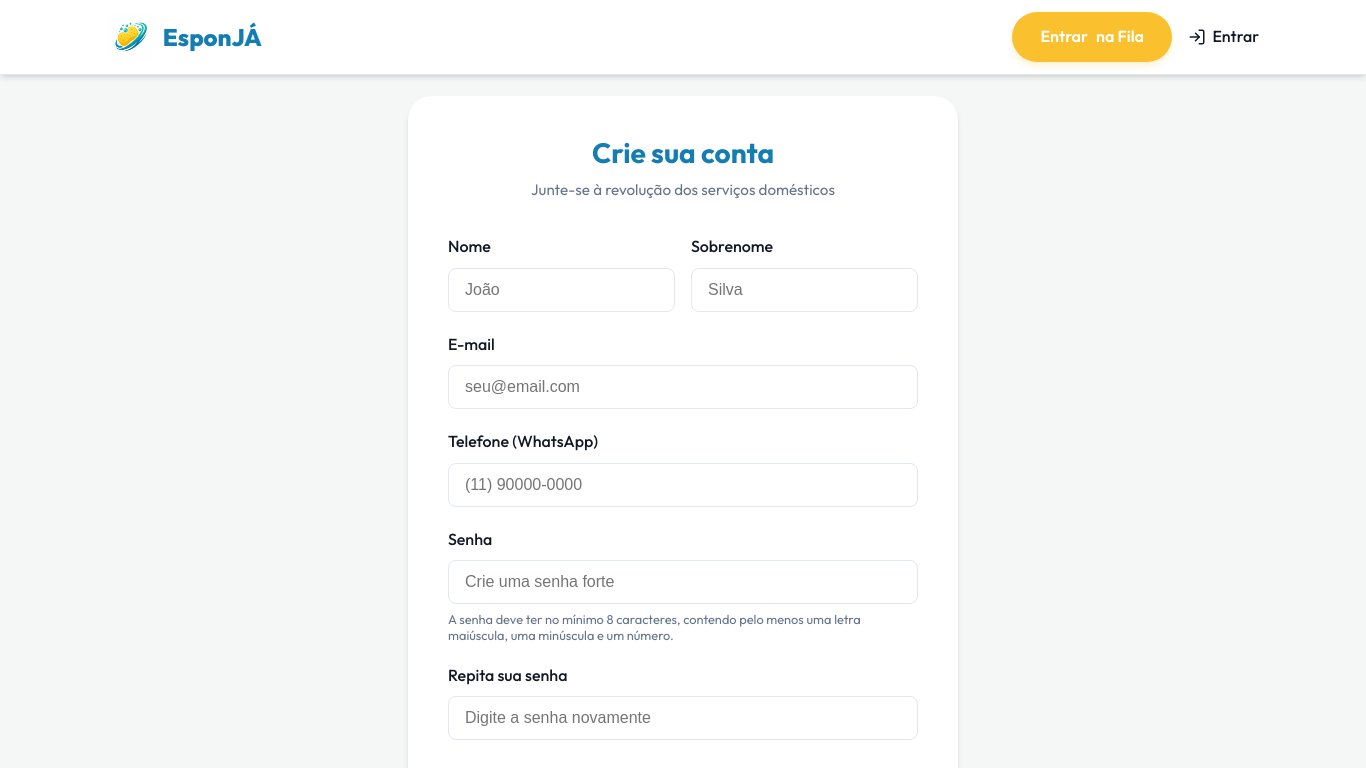
Test: Register Component › 5. deve exibir mensagem de erro se a API retornar falha (ex: email já cadastrado)
This screenshot has width=1366, height=768.
Type "Diana" into the field with placeholder "João" at (562, 290), box left=448, top=268, right=675, bottom=312
Type "Prince" into the field with placeholder "Silva" at (804, 290), box left=691, top=268, right=918, bottom=312
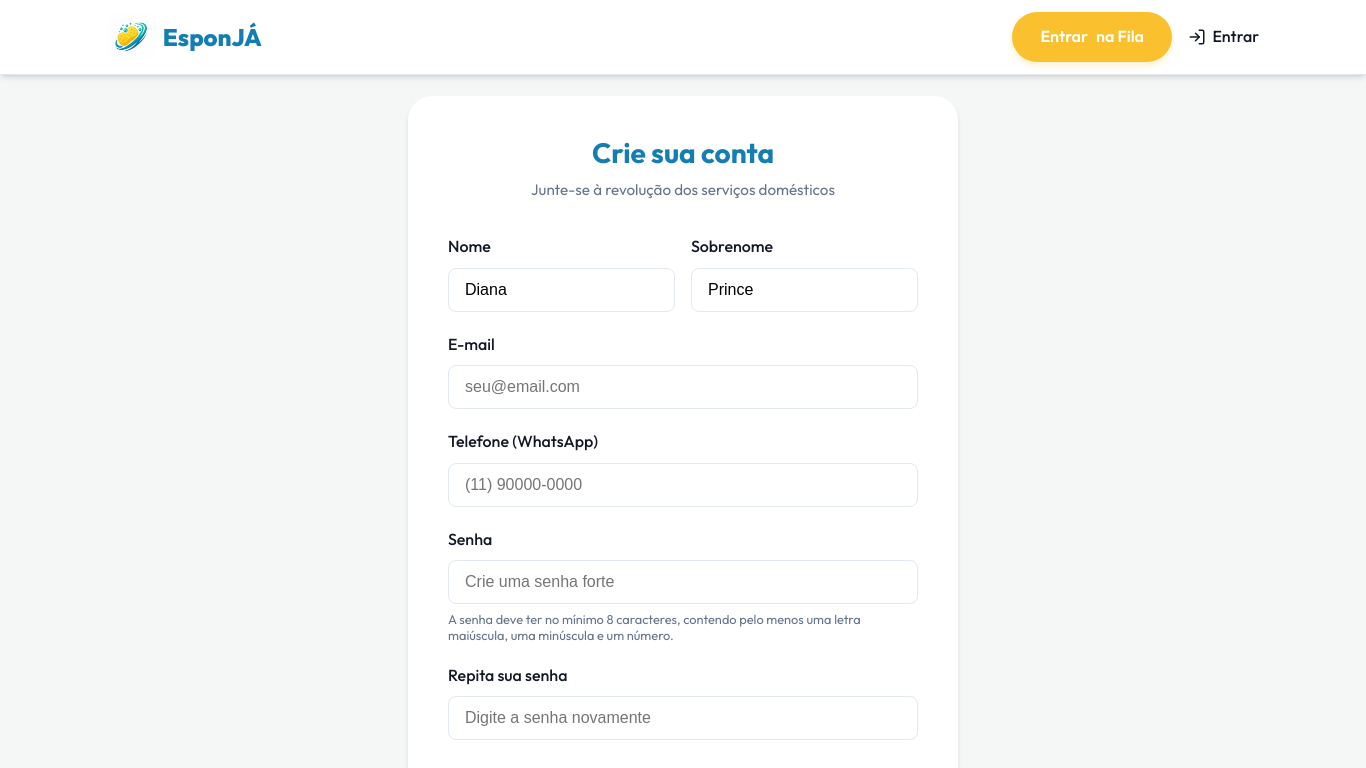
Type "diana@usp.br" into the field with placeholder "seu@email.com" at (683, 387), box left=448, top=365, right=918, bottom=409
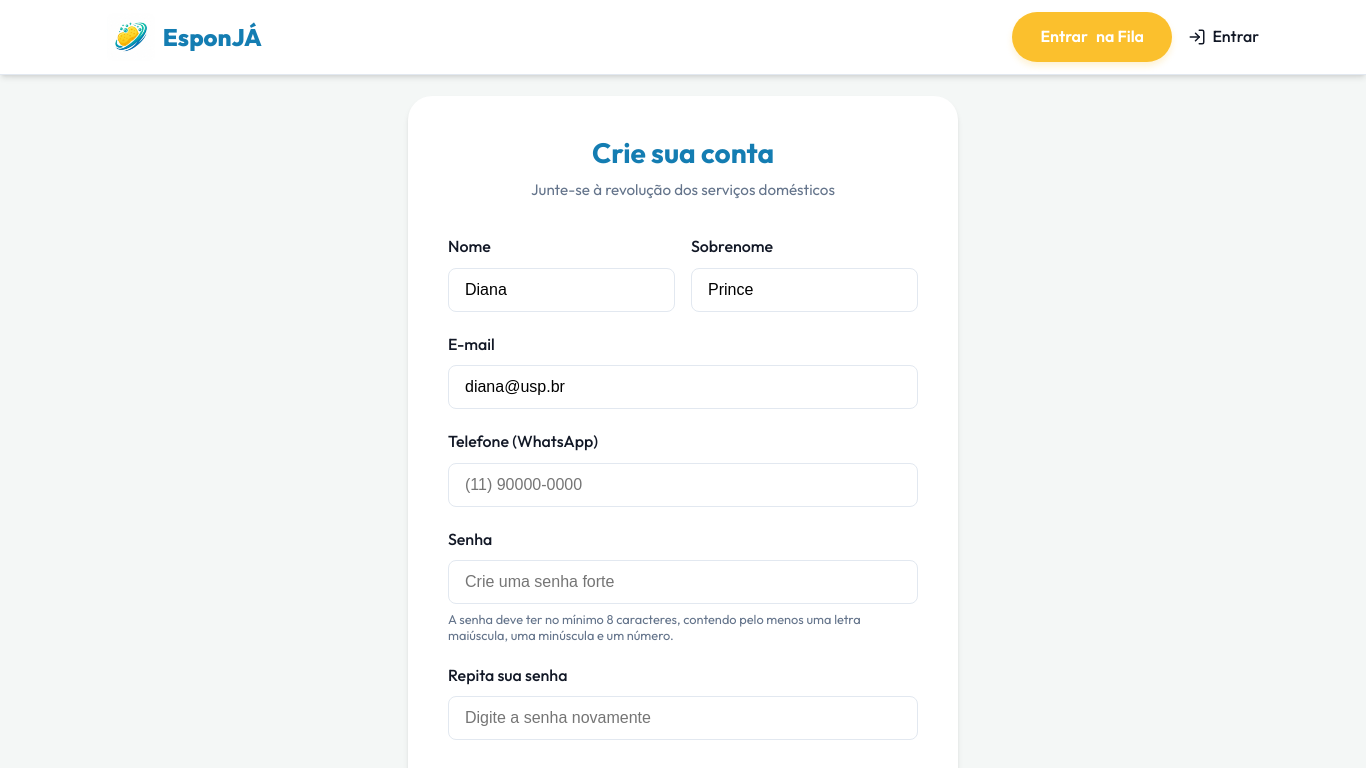
Type "11999999999" into the field with placeholder "(11) 90000-0000" at (683, 485), box left=448, top=463, right=918, bottom=507
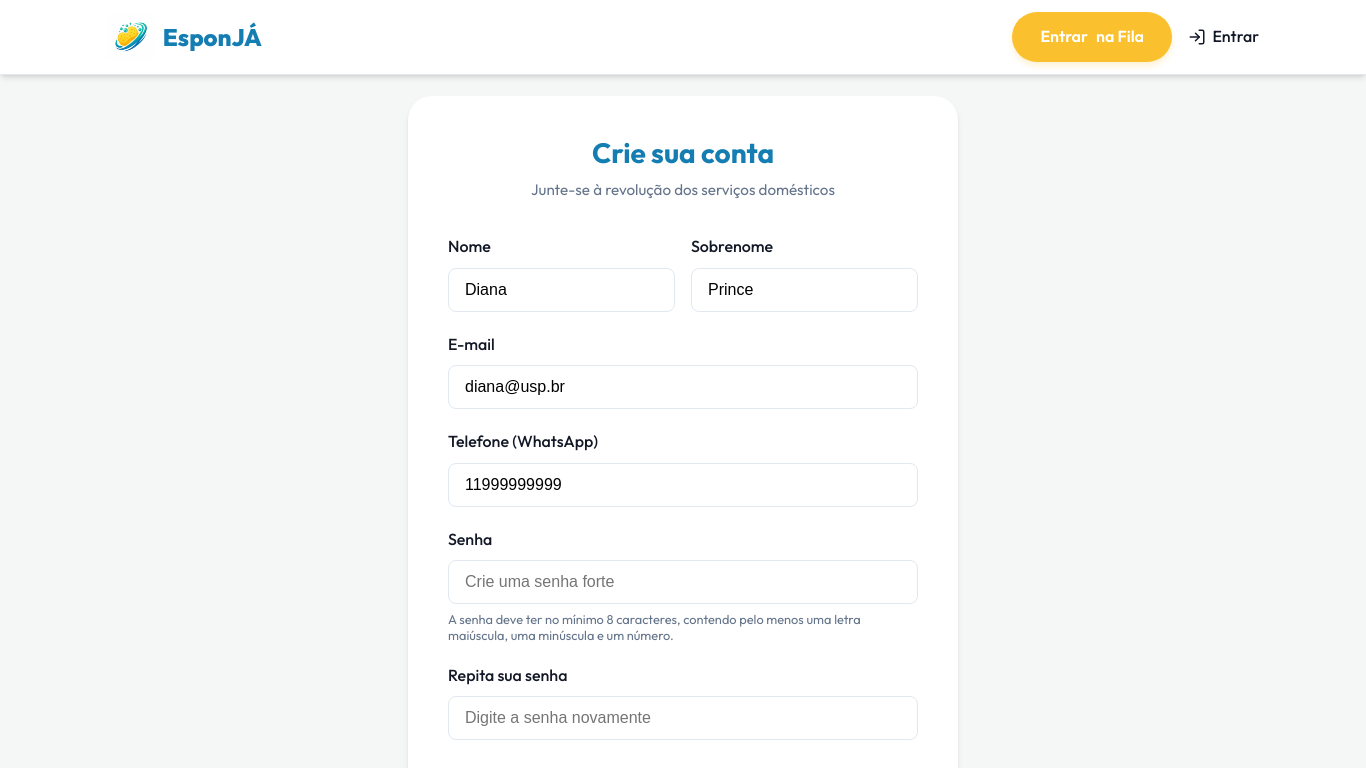
Type "Senha123" into the password field with placeholder "Crie uma senha forte" at (683, 582), box left=448, top=560, right=918, bottom=604
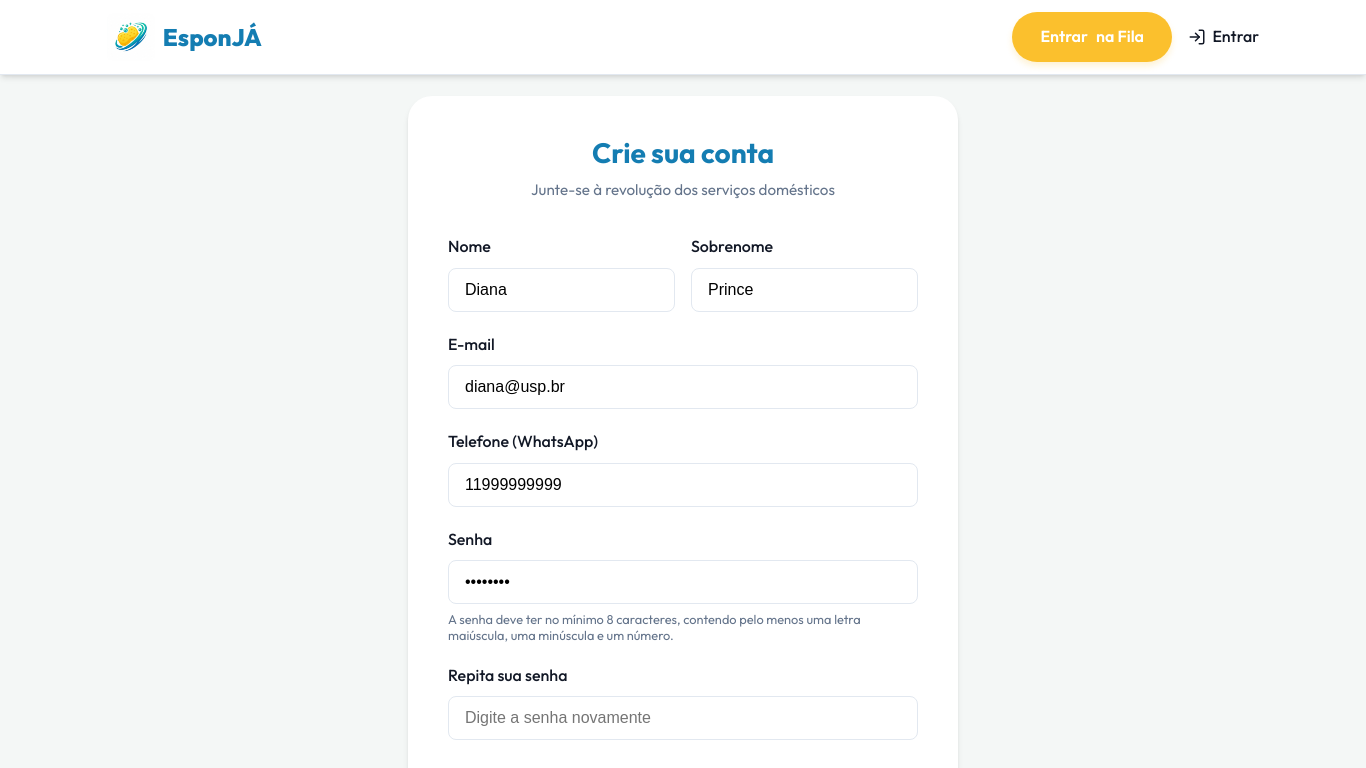
Type "Senha123" into the password field with placeholder "Digite a senha novamente" at (683, 718), box left=448, top=696, right=918, bottom=740
(page scrolled)
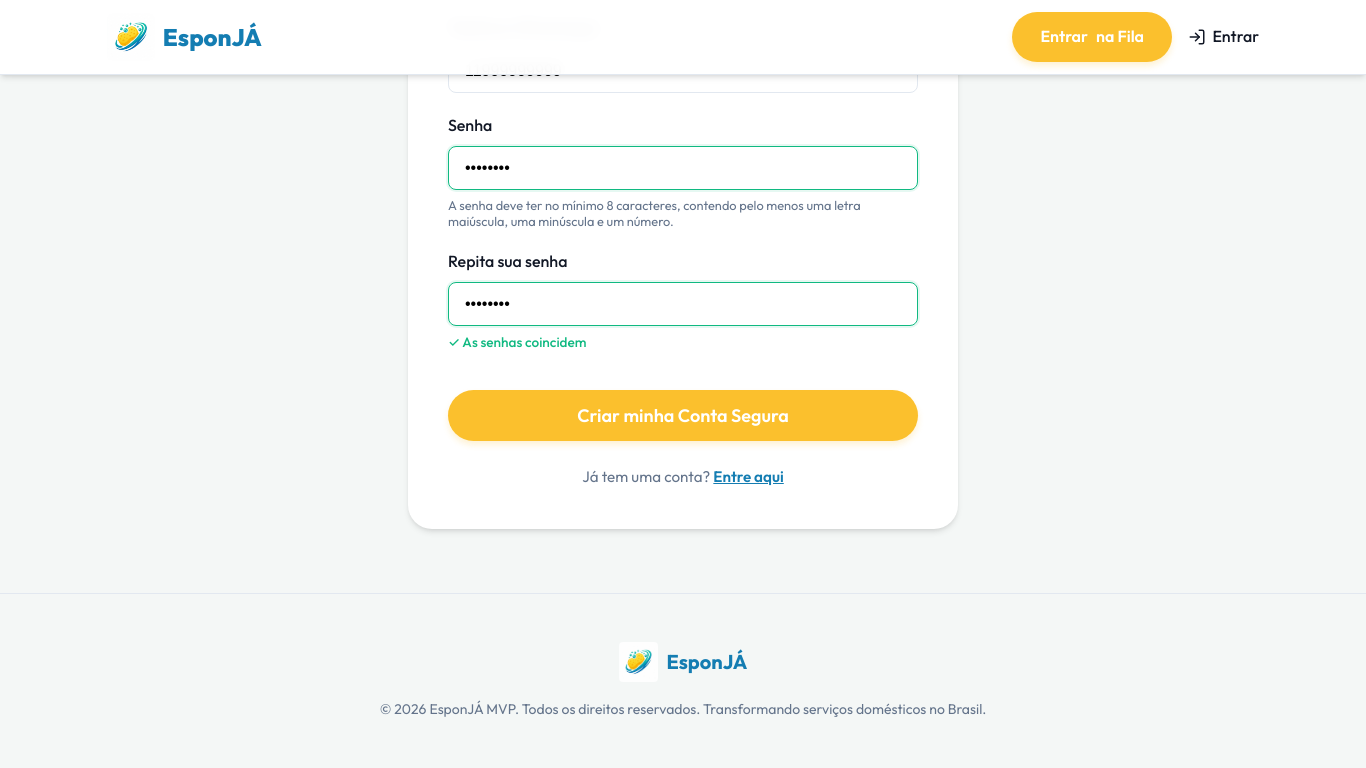
Click the button "Criar minha Conta Segura" at (683, 415), box left=448, top=390, right=918, bottom=441
(page scrolled)
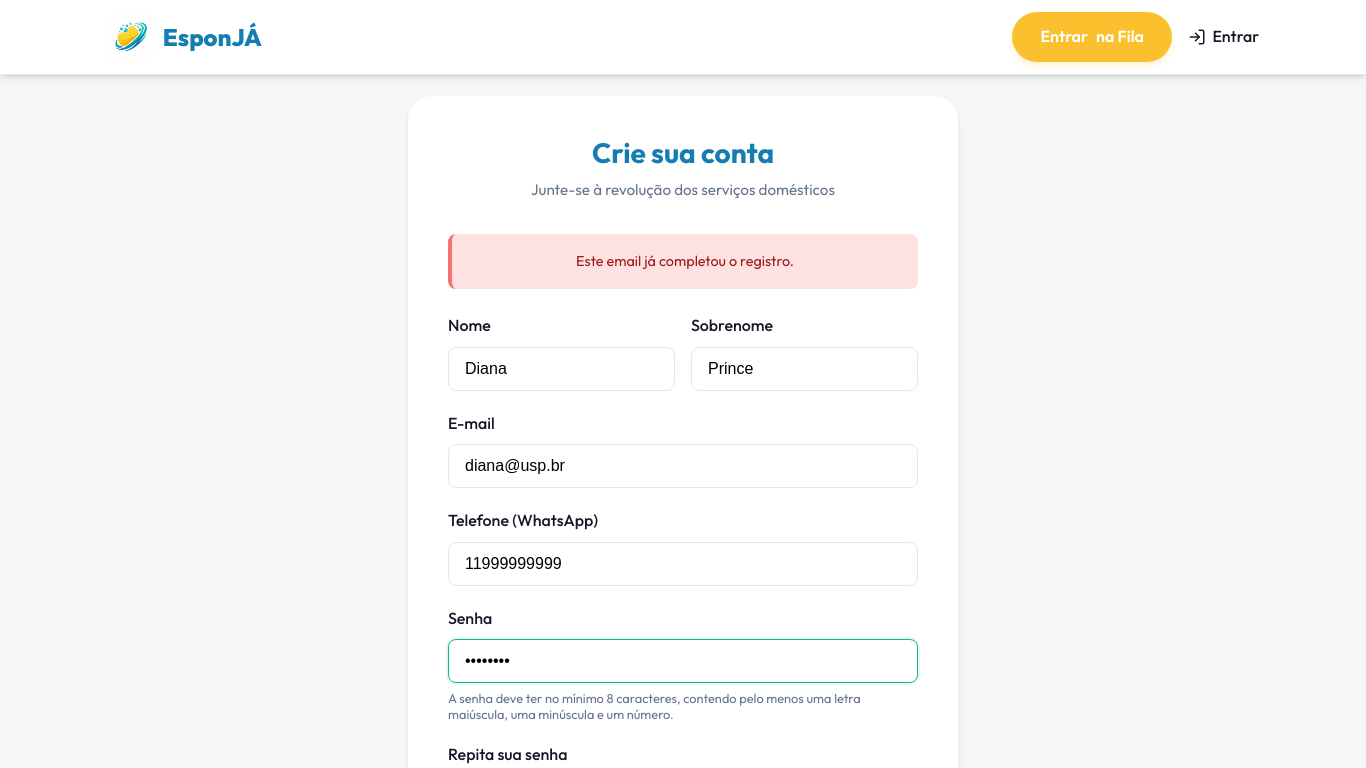
Now the text "Este email já completou o registro." is shown, box left=448, top=234, right=918, bottom=289
